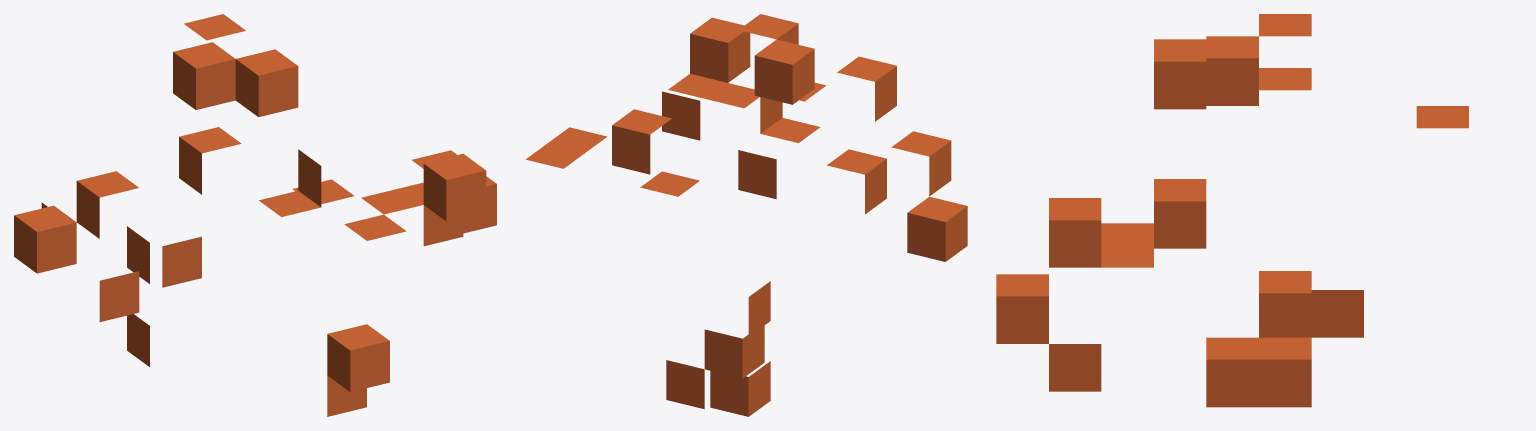
File: tree-maple-1p2-gold-d9662f.gltf
3 renders of one model, left to right at view 1: azimuth 30°, elevation 25°; view 2: azimuth 150°, elevation 25°; view 3: azimuth 270°, elevation 25°, orthographic. The views are drawn at different scales.
Parts seen in each view (by area): view 1: tree-maple-1p2-gold-d9662f; view 2: tree-maple-1p2-gold-d9662f; view 3: tree-maple-1p2-gold-d9662f.
Boxes of the visible parts, x1,y1,x2,y2 form: tree-maple-1p2-gold-d9662f: (14, 14, 496, 416); tree-maple-1p2-gold-d9662f: (525, 14, 967, 416); tree-maple-1p2-gold-d9662f: (996, 14, 1468, 407).
Size of the model in its own units: 11 by 8 by 10.
